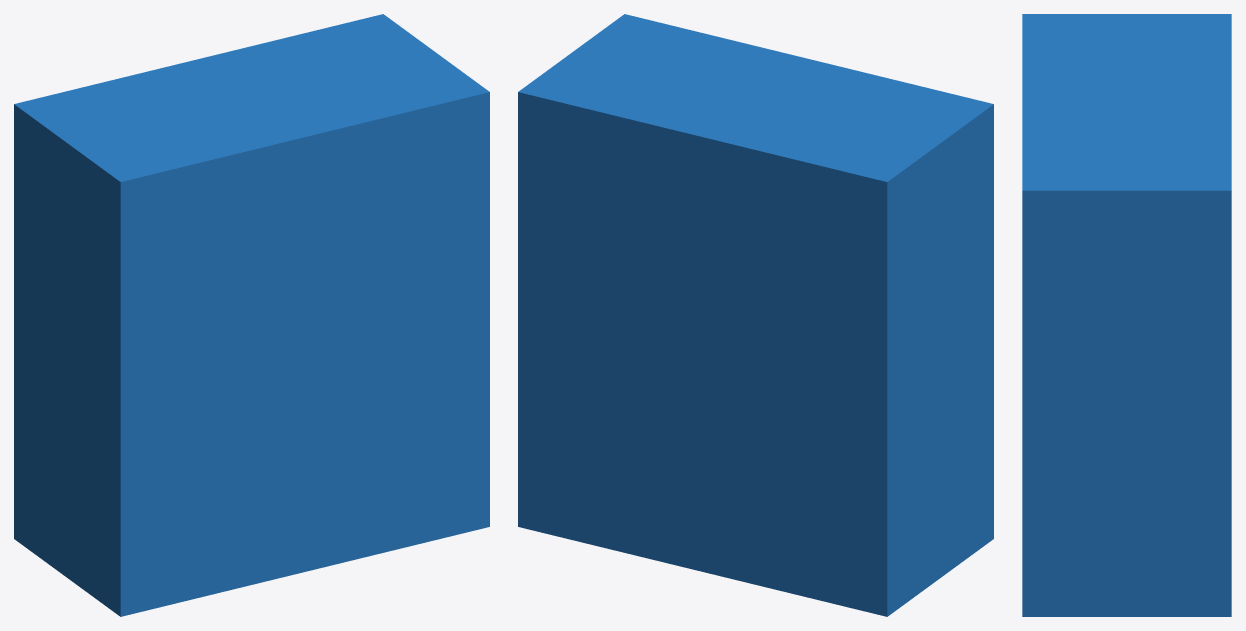
Rendered from Torso.glb.
3 renders of one model, left to right at view 1: azimuth 30°, elevation 25°; view 2: azimuth 150°, elevation 25°; view 3: azimuth 270°, elevation 25°, orthographic. The views are drawn at different scales.
Parts seen in each view (by area): view 1: Torso; view 2: Torso; view 3: Torso.
Part boxes in pixels (left/top/right/bottom): Torso: left=14, top=14, right=489, bottom=616; Torso: left=518, top=14, right=993, bottom=616; Torso: left=1022, top=14, right=1231, bottom=616.
Size of the model in its own units: 8 by 9 by 4.
